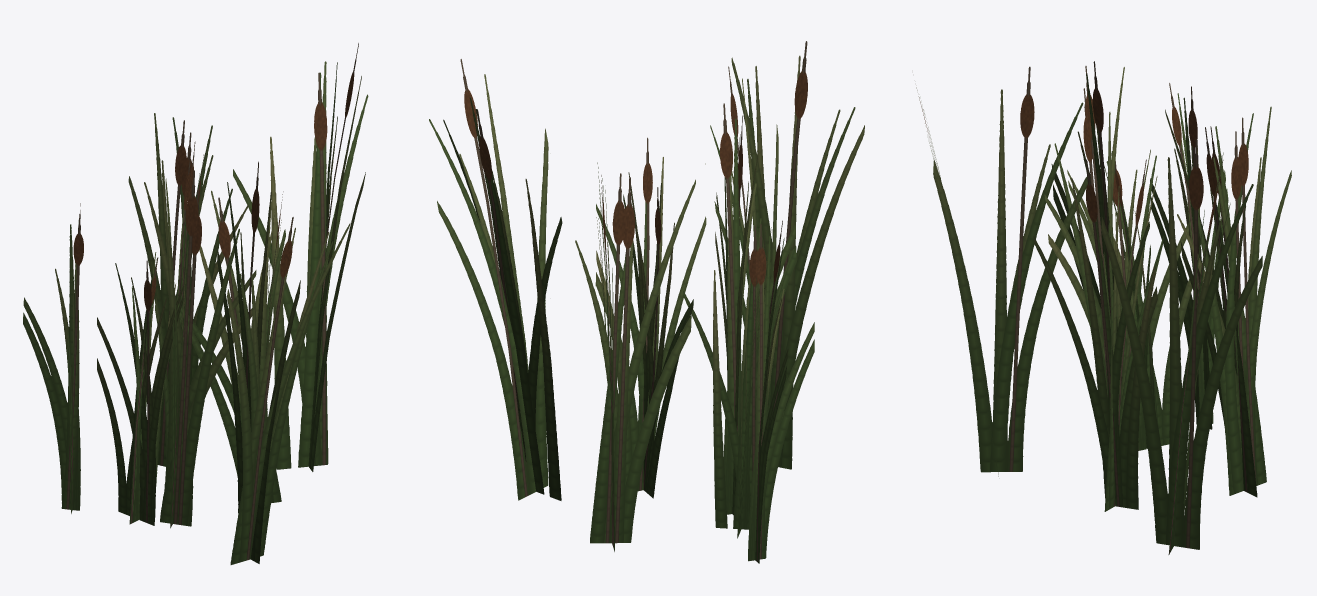
The model's file is orobinec_1.glb.
3 views of the same model, side by side, from view 1: azimuth 30°, elevation 25°; view 2: azimuth 150°, elevation 25°; view 3: azimuth 270°, elevation 25° (orthographic). The views are drawn at different scales.
Visible parts, largest first — view 1: orobinec_1; view 2: orobinec_1; view 3: orobinec_1.
Part boxes in pixels (box(x1,y1,x2,y2)): orobinec_1: box(23, 43, 368, 564); orobinec_1: box(429, 41, 864, 563); orobinec_1: box(916, 61, 1291, 554).
Size of the model in its own units: 1.74 by 1.98 by 1.57.
1 material, 1 textured.
